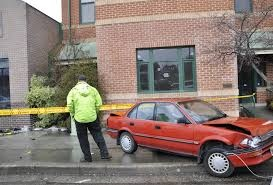Dent: (207, 123, 267, 163)
